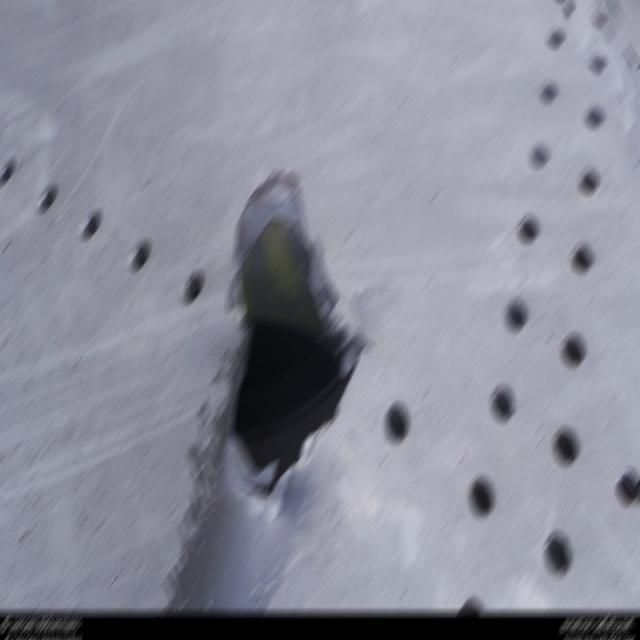crack: (225, 175, 369, 508)
